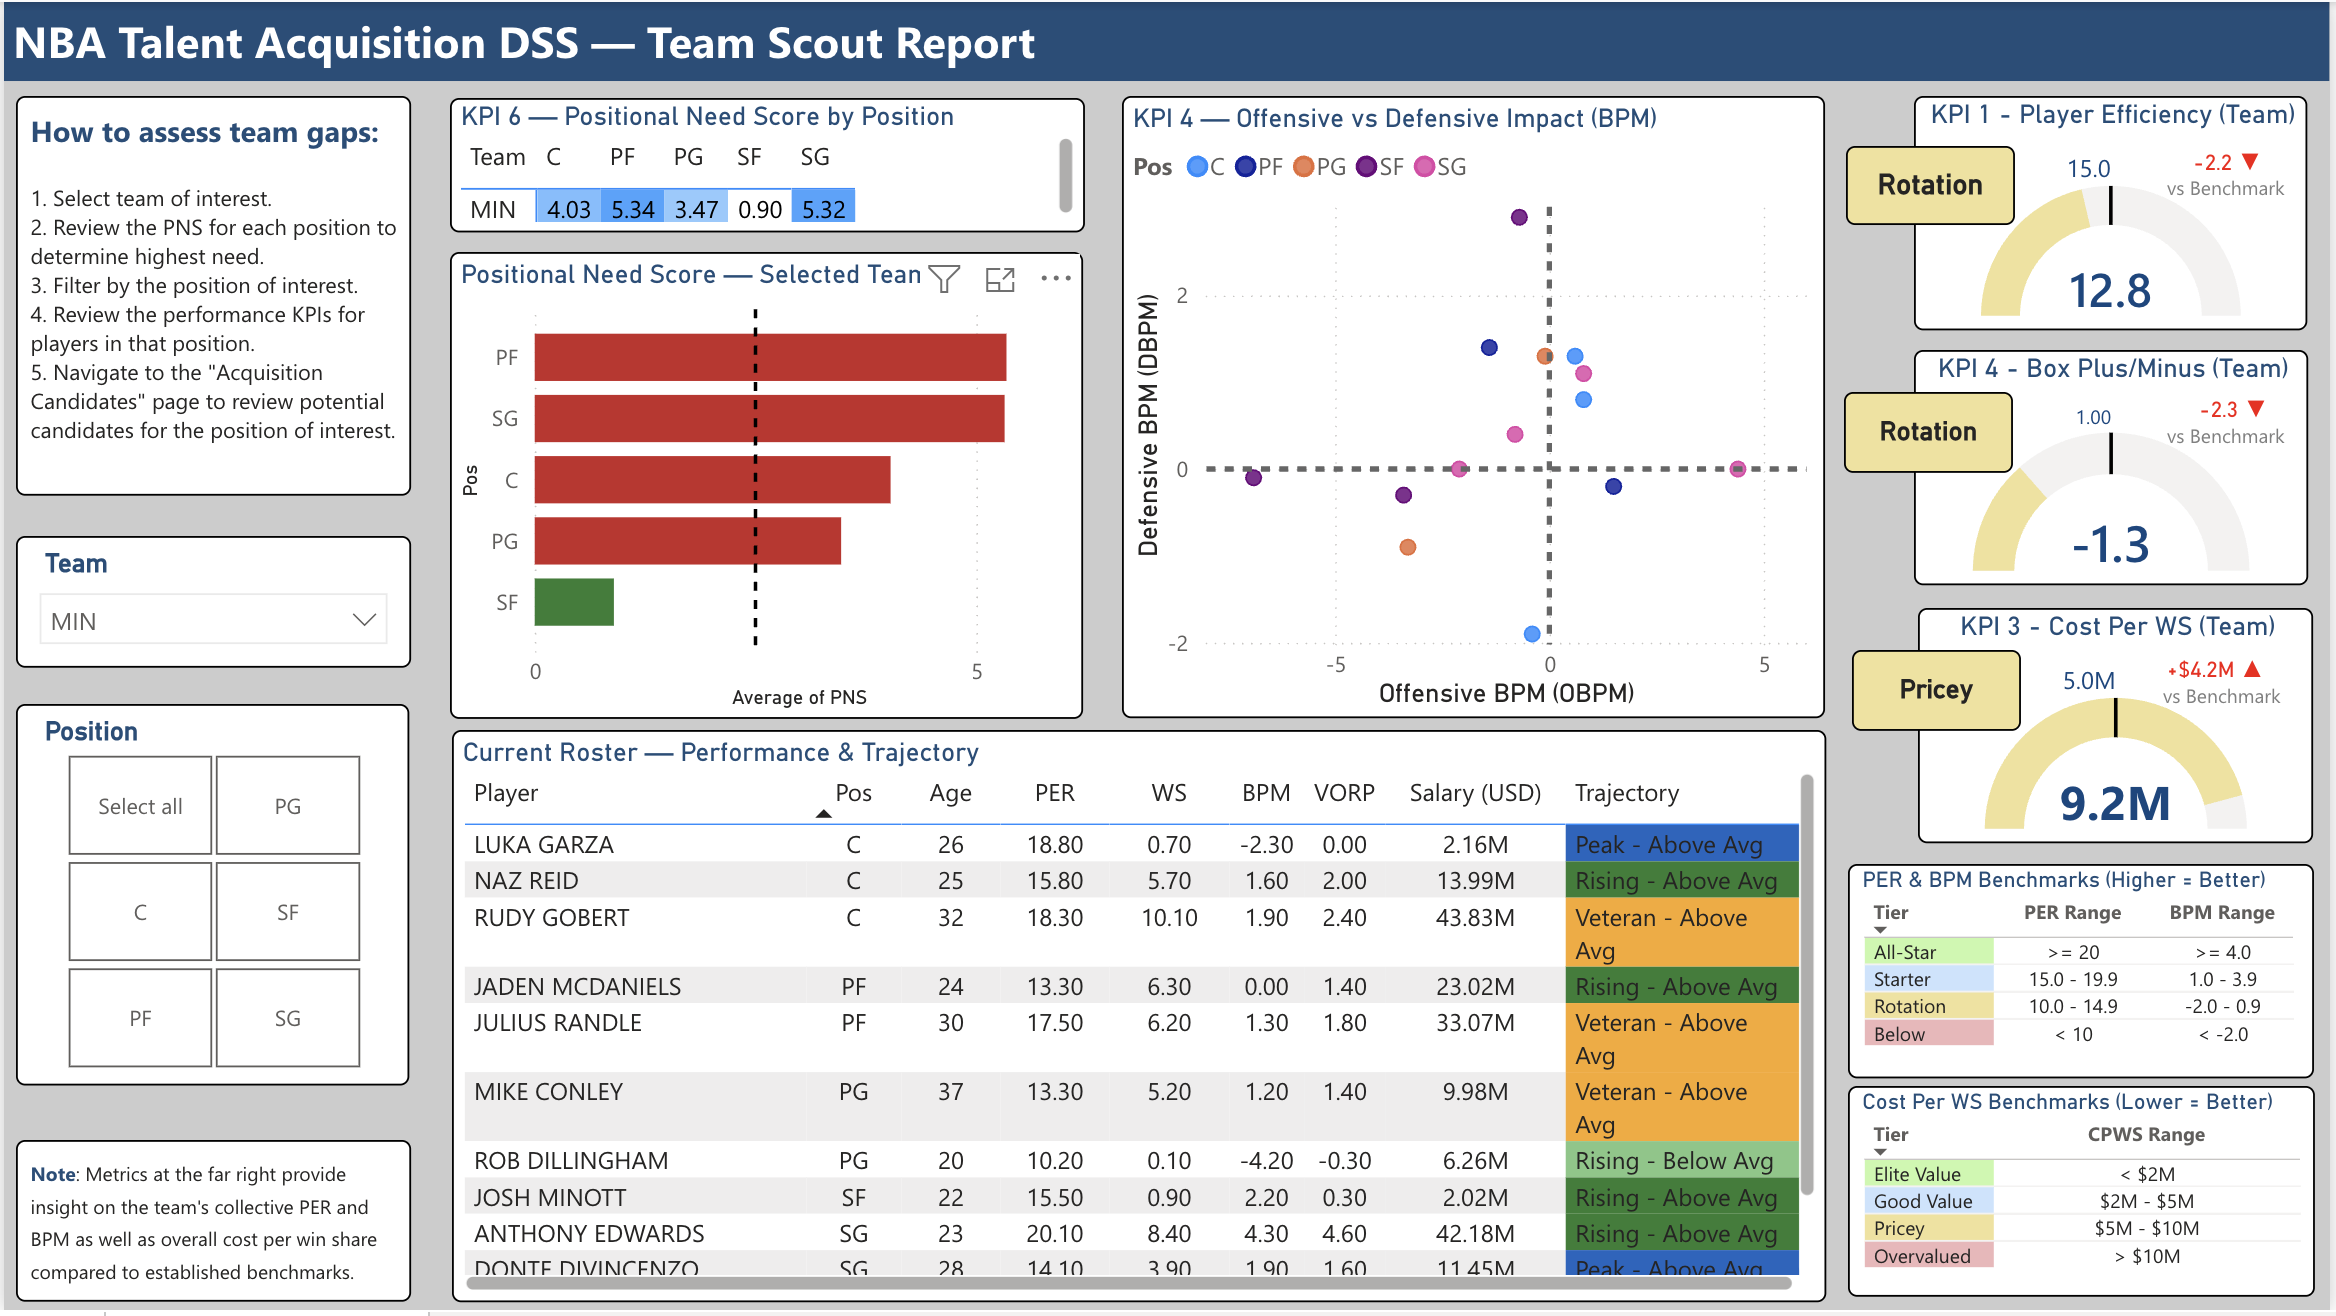

What the dashboard file says about the page in this screenshot:
{"tool":"powerbi","page":{"name":"Team Scout Report","canvas":[1280,720],"ordinal":0},"visuals":[{"type":"shape","box":[0,43.9,230.4,676.6],"z":0},{"type":"card","title":"vs. Benchmark (0)","fields":{"Values":["NBA_DSS_UnifiedDf.BPM_KPI_Comp_Viz"]},"box":[1187,214.7,78.5,22.7],"z":0,"group":"g5"},{"type":"gauge","title":"KPI 4 - Box Plus/Minus (Team)","fields":{"Y":["NBA_DSS_UnifiedDf.BPM_Team"]},"box":[1051.2,192,217,129.6],"z":1000,"group":"g3"},{"type":"textbox","box":[1179.8,224,85.7,27.9],"z":1000,"group":"g5"},{"type":"textbox","box":[6.4,626,217.6,89.1],"z":1000},{"type":"textbox","box":[0,0,1280,43.6],"z":2000},{"type":"gauge","title":"KPI 3 - Cost Per WS (Team)","fields":{"Y":["NBA_DSS_UnifiedDf.CPWS_Team"]},"box":[1053.6,333.5,217.7,129.6],"z":2000,"group":"g2"},{"type":"gauge","title":"KPI 1 - Player Efficiency (Team)","fields":{"Y":["NBA_DSS_UnifiedDf.PER_Team"]},"box":[1051.5,52.1,216.7,129],"z":3000,"group":"g1"},{"type":"slicer","fields":{"Values":["NBA_DSS_UnifiedDf.Team"]},"box":[6.4,293.9,217.6,72.5],"z":3000},{"type":"card","title":"Tier","fields":{"Values":["NBA_DSS_UnifiedDf.CPWS_KPITier_Team"]},"box":[1017.4,356.3,93,44.5],"z":4000,"group":"g2"},{"type":"slicer","fields":{"Values":["NBA_DSS_UnifiedDf.Pos"]},"box":[6.4,386.8,216.3,209.9],"z":4000},{"type":"pivotTable","title":"KPI 6 — Positional Need Score by Position","fields":{"Columns":["NBA_DSS_UnifiedDf.Pos"],"Rows":["NBA_DSS_UnifiedDf.Team"],"Values":["Avg(NBA_DSS_UnifiedDf.PNS)"]},"box":[245.4,52.5,349.4,74.2],"z":5000},{"type":"card","title":"Tier","fields":{"Values":["NBA_DSS_UnifiedDf.PER_KPITier_Team"]},"box":[1013.9,79.8,93,43.5],"z":5000,"group":"g1"},{"type":"clusteredBarChart","title":"Positional Need Score — Selected Team","fields":{"Category":["NBA_DSS_UnifiedDf.Pos"],"Y":["Avg(NBA_DSS_UnifiedDf.PNS)"]},"box":[245.3,137.3,348.3,256.8],"z":6000},{"type":"card","title":"vs. Benchmark (0)","fields":{"Values":["NBA_DSS_UnifiedDf.PER_KPI_Comp_Viz"]},"box":[1184.2,80,78.5,20.6],"z":7000,"group":"g4"},{"type":"tableEx","title":"Current Roster — Performance & Trajectory","fields":{"Values":["NBA_DSS_UnifiedDf.Player","NBA_DSS_UnifiedDf.Pos","Avg(NBA_DSS_UnifiedDf.Age)","Avg(NBA_DSS_UnifiedDf.PER)","Avg(NBA_DSS_UnifiedDf.WS)","Avg(NBA_DSS_UnifiedDf.BPM)","Avg(NBA_DSS_UnifiedDf.VORP)","Avg(NBA_DSS_UnifiedDf.Salary_USD)","NBA_DSS_UnifiedDf.Performance_Trajectory"]},"box":[246.6,400.4,756.3,315.2],"z":7000},{"type":"card","title":"Tier","fields":{"Values":["NBA_DSS_UnifiedDf.BPM_KPITier_Team"]},"box":[1012.6,214.8,93,44.5],"z":7500,"group":"g3"},{"type":"textbox","box":[6.4,52.2,217.6,220.1],"z":8000},{"type":"tableEx","title":"PER & BPM Benchmarks (Higher = Better)","fields":{"Values":["Tbl_PER_BPM_KPI_Benchmarks.Tier","Tbl_PER_BPM_KPI_Benchmarks.PER Range","Tbl_PER_BPM_KPI_Benchmarks.BPM Range"]},"box":[1015.4,474.1,256.3,117.8],"z":9000},{"type":"tableEx","title":"Cost Per WS Benchmarks (Lower = Better)","fields":{"Values":["Tbl_CPWS_KPI_Benchmark.Tier","Tbl_CPWS_KPI_Benchmark.CPWS Range"]},"box":[1015.3,596.7,257,115.8],"z":10000},{"type":"group","id":"g1","title":"Group 3","box":[1013.9,52.1,254.2,128.9],"z":11000},{"type":"group","id":"g2","title":"Group 5","box":[1017.4,333.5,254,129.6],"z":12000},{"type":"group","id":"g3","title":"Group 6","box":[1012.6,192,255.6,129.6],"z":13000},{"type":"scatterChart","title":"KPI 4 — Offensive vs Defensive Impact (BPM)","fields":{"Category":["NBA_DSS_UnifiedDf.Player"],"Series":["NBA_DSS_UnifiedDf.Pos"],"X":["Avg(NBA_DSS_UnifiedDf.OBPM)"],"Y":["Avg(NBA_DSS_UnifiedDf.DBPM)"]},"box":[615.8,52.2,386.8,342.3],"z":14000},{"type":"textbox","box":[1179.8,87.9,85.7,27.9],"z":15503,"group":"g4"},{"type":"textbox","box":[1177.8,366.5,85.7,27.9],"z":15504,"group":"g6"},{"type":"card","title":"vs. Benchmark (0)","fields":{"Values":["NBA_DSS_UnifiedDf.CPWS_KPI_Comp_Viz"]},"box":[1187.1,358.2,60.9,22.7],"z":21000,"group":"g6"},{"type":"group","id":"g4","title":"Group 2","box":[1179.8,80,85.7,35.7],"z":21001,"group":"g1"},{"type":"group","id":"g5","title":"Group 4","box":[1179.8,214.7,85.7,37.2],"z":21003,"group":"g3"},{"type":"group","id":"g6","title":"Group 1","box":[1177.8,358.2,85.7,36.1],"z":21004,"group":"g2"}]}

Visuals, with their boxes in screenshot pixels (x1, y1, x2, y2), scaled from the page's 1280x720 canvas onto the 2336x1316 screenshot:
shape: (left=0, top=80, right=420, bottom=1315)
"vs. Benchmark (0)" card: (left=2166, top=392, right=2310, bottom=434)
"KPI 4 - Box Plus/Minus (Team)" gauge: (left=1918, top=351, right=2314, bottom=588)
textbox: (left=2153, top=409, right=2310, bottom=460)
textbox: (left=12, top=1144, right=409, bottom=1307)
textbox: (left=0, top=0, right=2335, bottom=80)
"KPI 3 - Cost Per WS (Team)" gauge: (left=1923, top=610, right=2320, bottom=846)
"KPI 1 - Player Efficiency (Team)" gauge: (left=1919, top=95, right=2314, bottom=331)
slicer - NBA_DSS_UnifiedDf.Team: (left=12, top=537, right=409, bottom=670)
"Tier" card: (left=1857, top=651, right=2026, bottom=733)
slicer - NBA_DSS_UnifiedDf.Pos: (left=12, top=707, right=406, bottom=1091)
"KPI 6 — Positional Need Score by Position" pivotTable: (left=448, top=96, right=1086, bottom=232)
"Tier" card: (left=1850, top=146, right=2020, bottom=225)
"Positional Need Score — Selected Team" clusteredBarChart: (left=448, top=251, right=1083, bottom=720)
"vs. Benchmark (0)" card: (left=2161, top=146, right=2304, bottom=184)
"Current Roster — Performance & Trajectory" tableEx: (left=450, top=732, right=1830, bottom=1308)
"Tier" card: (left=1848, top=393, right=2018, bottom=474)
textbox: (left=12, top=95, right=409, bottom=498)
"PER & BPM Benchmarks (Higher = Better)" tableEx: (left=1853, top=867, right=2321, bottom=1082)
"Cost Per WS Benchmarks (Lower = Better)" tableEx: (left=1853, top=1091, right=2322, bottom=1302)
"Group 3" group: (left=1850, top=95, right=2314, bottom=331)
"Group 5" group: (left=1857, top=610, right=2320, bottom=846)
"Group 6" group: (left=1848, top=351, right=2314, bottom=588)
"KPI 4 — Offensive vs Defensive Impact (BPM)" scatterChart: (left=1124, top=95, right=1830, bottom=721)
textbox: (left=2153, top=161, right=2310, bottom=212)
textbox: (left=2149, top=670, right=2306, bottom=721)
"vs. Benchmark (0)" card: (left=2166, top=655, right=2278, bottom=696)
"Group 2" group: (left=2153, top=146, right=2310, bottom=211)
"Group 4" group: (left=2153, top=392, right=2310, bottom=460)
"Group 1" group: (left=2149, top=655, right=2306, bottom=721)
